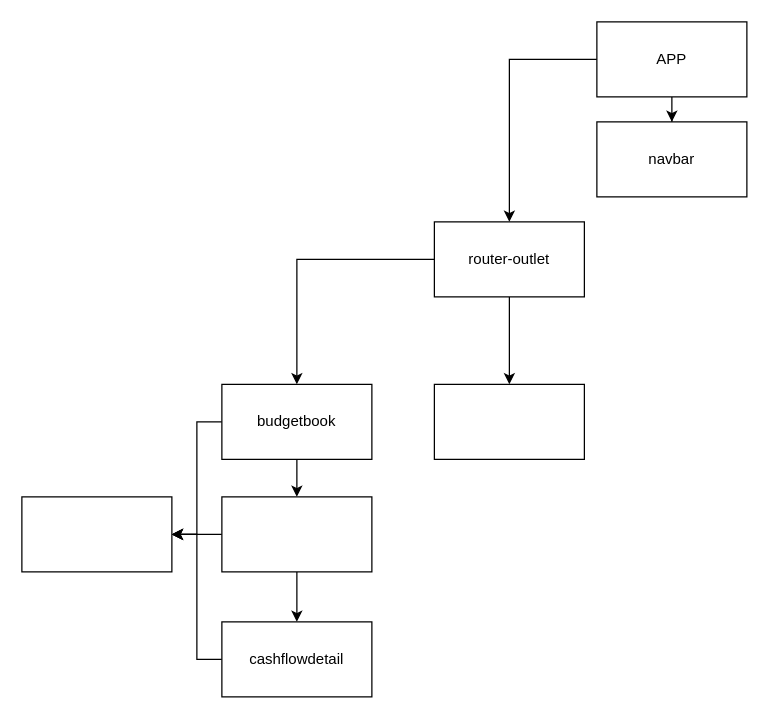
Image size: 769x719. Some labels were removed from this diagram. Each missing label, with the centre of its shape:
"cashflowcard" goes at point (296, 534).
"custom btn" goes at point (96, 534).
"goalplanner" goes at point (508, 421).
